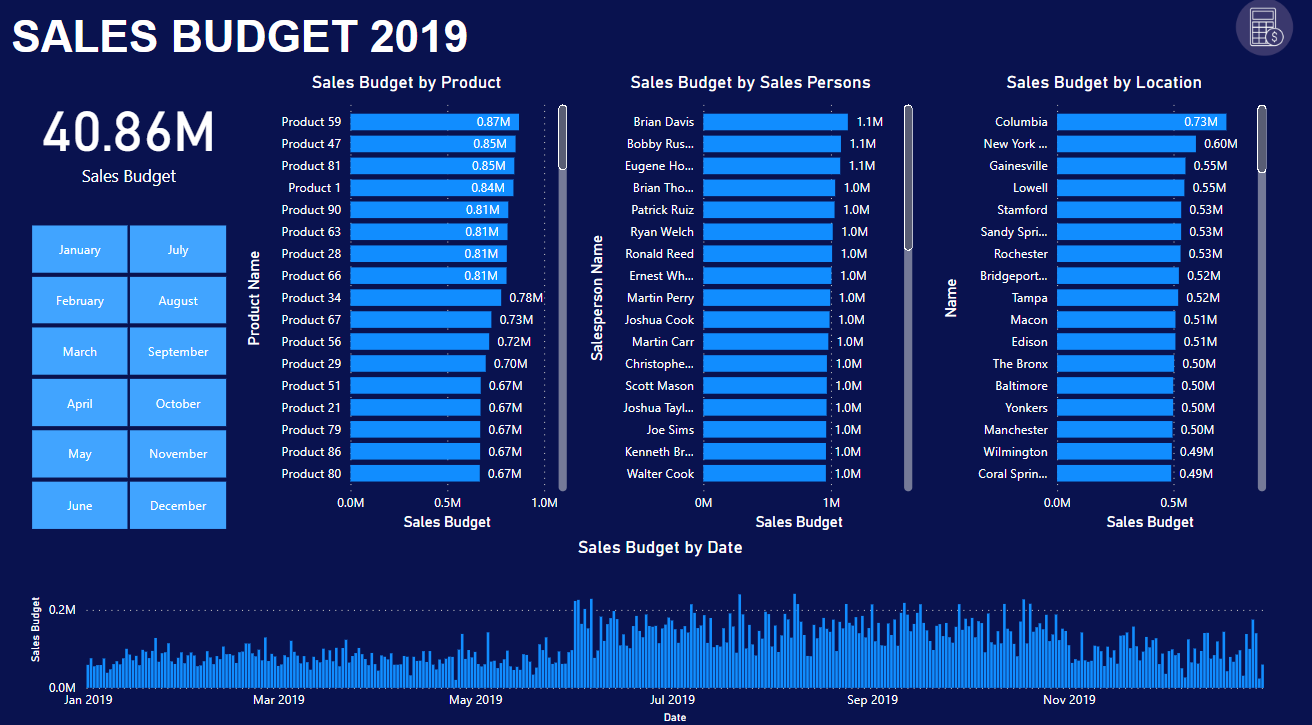

This screenshot's page, from the dashboard's own definition file:
{"tool":"powerbi","page":{"name":"Sales Budget 2019","canvas":[1280,720],"ordinal":4},"visuals":[{"type":"textbox","box":[9.7,13.3,454.1,63],"z":0},{"type":"card","fields":{"Values":["Key Calculations.Sales Budget"]},"box":[9.7,76.3,237.4,123.5],"z":1000},{"type":"slicer","fields":{"Values":["Dates.Date.Variation.Date Hierarchy.Month"]},"box":[8.6,217.4,237.6,306.7],"z":2000},{"type":"columnChart","fields":{"Category":["Dates.Date"],"Y":["Key Calculations.Sales Budget"]},"box":[27.4,524.1,1226.7,185.7],"z":3000},{"type":"barChart","title":"Sales Budget by Product","fields":{"Category":["Product.Product Name"],"Y":["Key Calculations.Sales Budget"]},"box":[236.1,76.3,319.6,447.8],"z":4000},{"type":"barChart","title":"Sales Budget by Sales Persons","fields":{"Category":["Sales Person.Salesperson Name"],"Y":["Key Calculations.Sales Budget"]},"box":[567.3,76.3,322.5,447.8],"z":5000},{"type":"barChart","title":"Sales Budget by Location","fields":{"Category":["Location.Name"],"Y":["Key Calculations.Sales Budget"]},"box":[908.5,76.3,322.5,447.8],"z":6000},{"type":"image","box":[1180.5,0,85.6,65.8],"z":7000}]}

Visuals, with their boxes in screenshot pixels (x1, y1, x2, y2), scaled from the page's 1280x720 canvas onto the 1312x725 screenshot:
textbox: BBox(10, 13, 475, 77)
card - Key Calculations.Sales Budget: BBox(10, 77, 253, 201)
slicer - Dates.Date.Variation.Date Hierarchy.Month: BBox(9, 219, 252, 528)
columnChart - Dates.Date x Key Calculations.Sales Budget: BBox(28, 528, 1285, 715)
"Sales Budget by Product" barChart: BBox(242, 77, 570, 528)
"Sales Budget by Sales Persons" barChart: BBox(581, 77, 912, 528)
"Sales Budget by Location" barChart: BBox(931, 77, 1262, 528)
image: BBox(1210, 0, 1298, 66)
